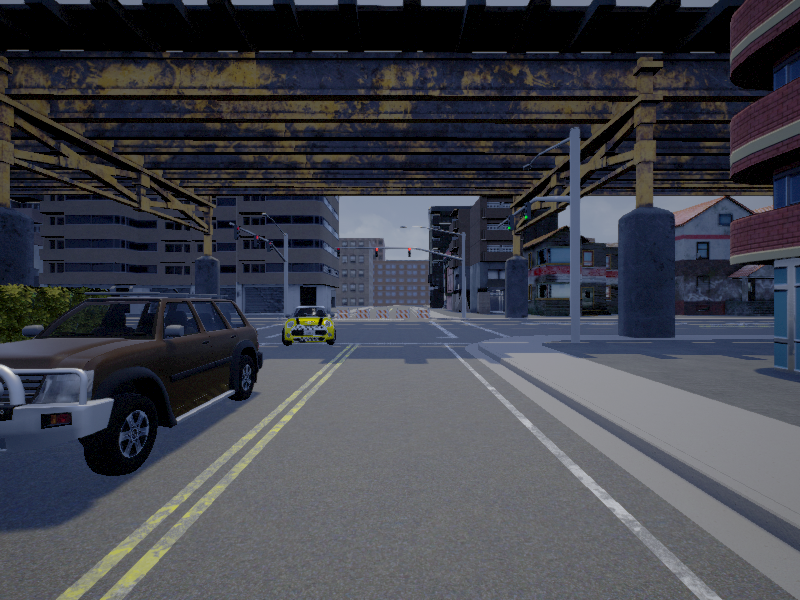Benign: (1, 297, 263, 477), (281, 306, 336, 344)
